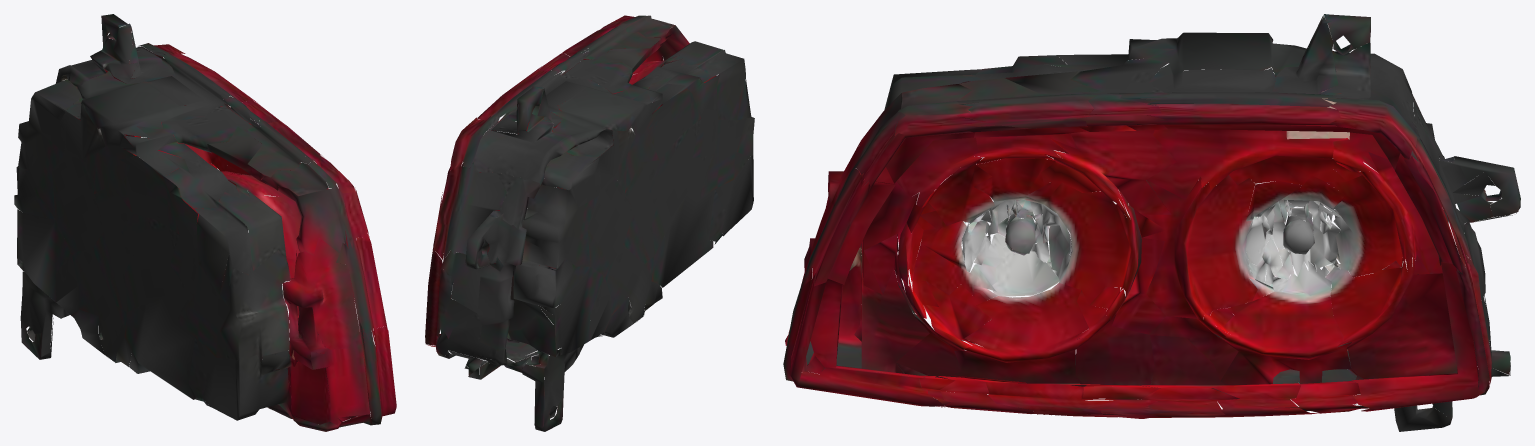
File: golfik_taillight.glb
3 views of the same model, side by side, from view 1: azimuth 30°, elevation 25°; view 2: azimuth 150°, elevation 25°; view 3: azimuth 270°, elevation 25° (orthographic). The views are drawn at different scales.
Parts seen in each view (by area): view 1: tripo_node_a7bd1e33-fcaf-4bca-857c-9cf1479300d4; view 2: tripo_node_a7bd1e33-fcaf-4bca-857c-9cf1479300d4; view 3: tripo_node_a7bd1e33-fcaf-4bca-857c-9cf1479300d4.
Boxes of the visible parts, box(x1,y1,x2,y2) form: tripo_node_a7bd1e33-fcaf-4bca-857c-9cf1479300d4: box(14, 14, 396, 431); tripo_node_a7bd1e33-fcaf-4bca-857c-9cf1479300d4: box(425, 15, 754, 431); tripo_node_a7bd1e33-fcaf-4bca-857c-9cf1479300d4: box(783, 14, 1520, 431).
Bounding box in the file's own units: 0.2679 × 0.662 × 1.
Materials: 1 (1 with a texture image).
